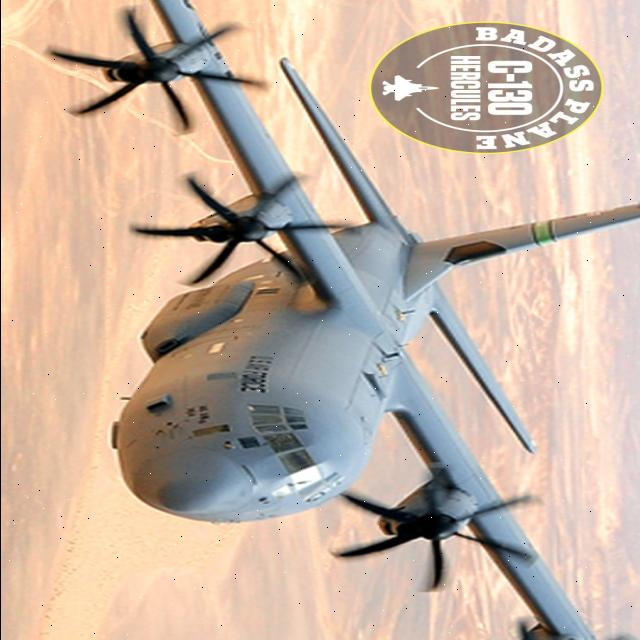C130: (22, 2, 636, 640)
